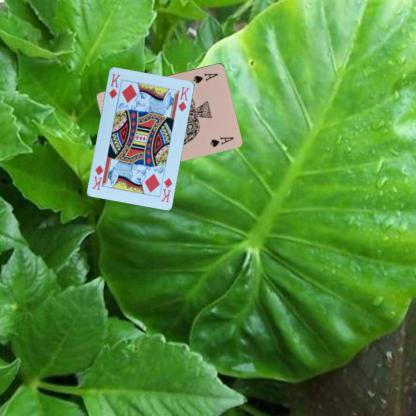As: (191, 70, 219, 84)
Kd: (107, 71, 122, 99), (158, 175, 173, 203)
